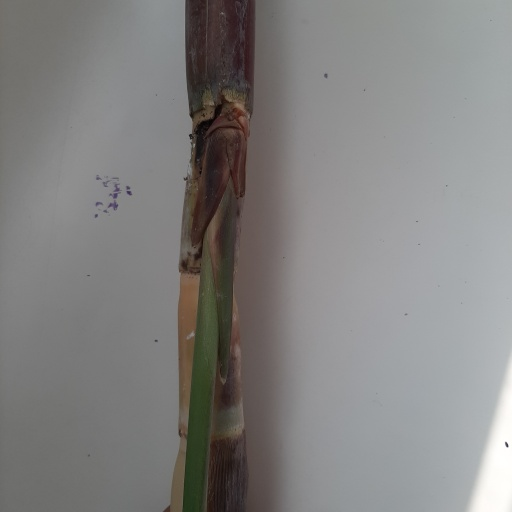Sprouted_Bud: (218, 98, 247, 208)
